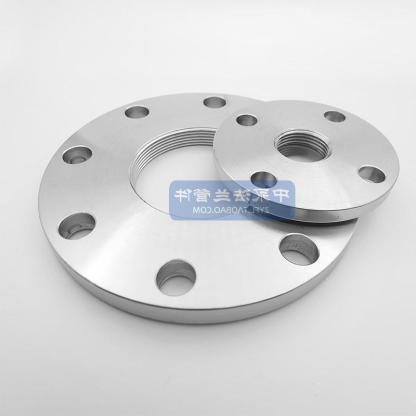FOD: (35, 87, 360, 326), (214, 99, 402, 222)
